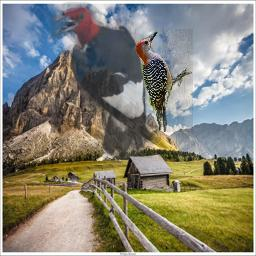Woodpecker: (50, 0, 161, 158), (132, 29, 193, 132)
